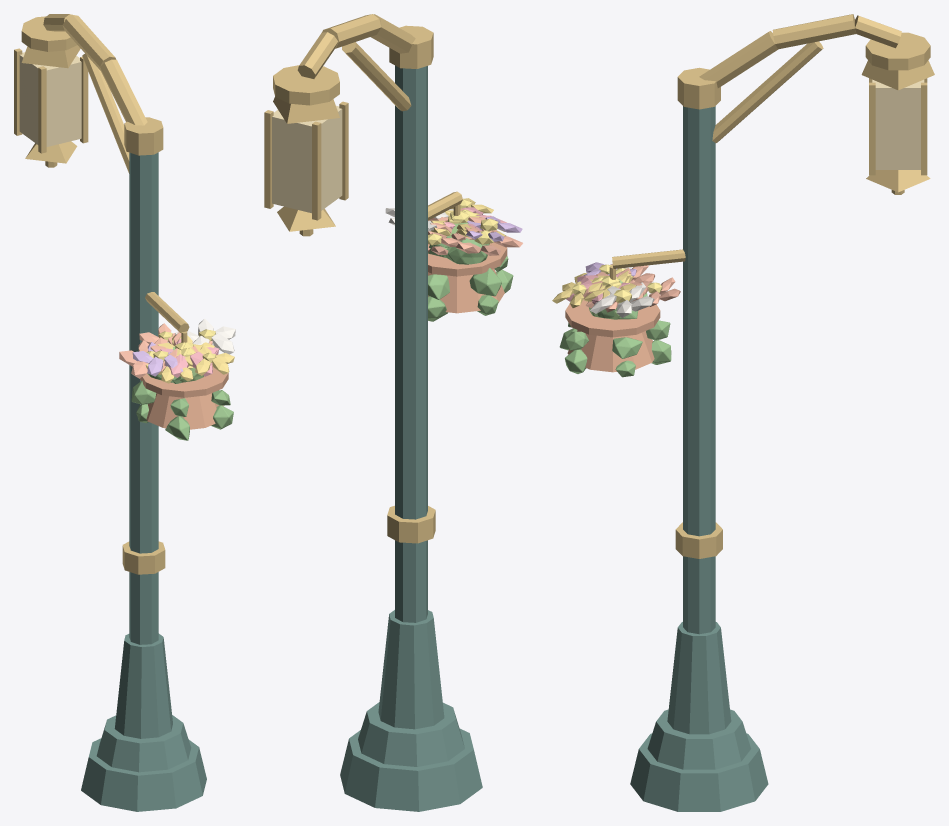
The model's file is Prop_Lamppost_A.fbx.
3 renders of one model, left to right at view 1: azimuth 30°, elevation 25°; view 2: azimuth 150°, elevation 25°; view 3: azimuth 270°, elevation 25°, orthographic. The views are drawn at different scales.
Parts seen in each view (by area): view 1: Prop_Lamppost_A, Prop_Lamppost_A_Veg; view 2: Prop_Lamppost_A, Prop_Lamppost_A_Veg; view 3: Prop_Lamppost_A, Prop_Lamppost_A_Veg.
Boxes of the visible parts, x1,y1,x2,y2 form: Prop_Lamppost_A: (14,14,228,811); Prop_Lamppost_A_Veg: (119,319,235,440); Prop_Lamppost_A: (264,14,507,811); Prop_Lamppost_A_Veg: (385,198,522,321); Prop_Lamppost_A: (565,14,934,811); Prop_Lamppost_A_Veg: (552,262,680,377).
Size of the model in its own units: 0.6391 by 3.93 by 1.77.
